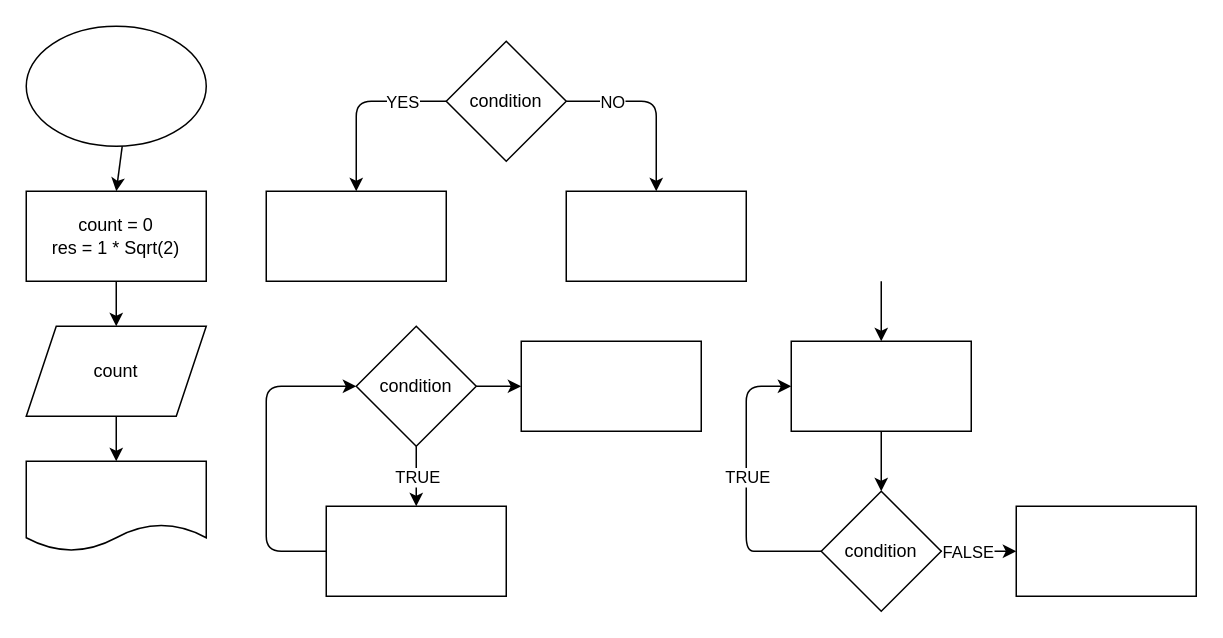
Image size: 1223x638. Some labels were removed from this diagram. The shapes that lost their labels are listed below. From the top down, each one's centre as x and y in pixels, then its label:
At pixel 115 85: "START".
At pixel 115 505: "print(res)".
